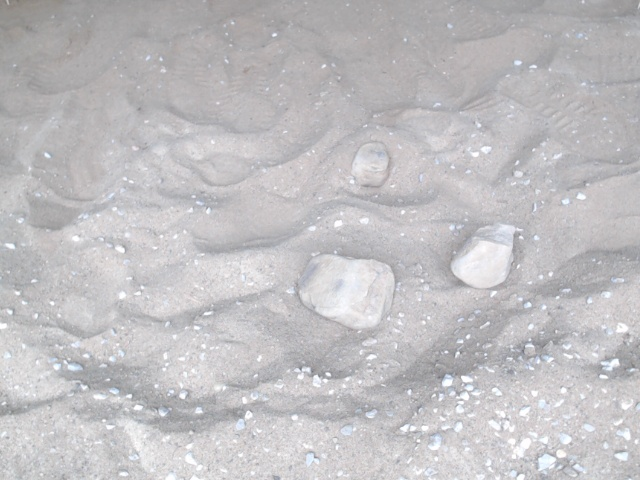rock: (293, 248, 400, 337), (446, 217, 521, 294), (348, 137, 393, 191)
